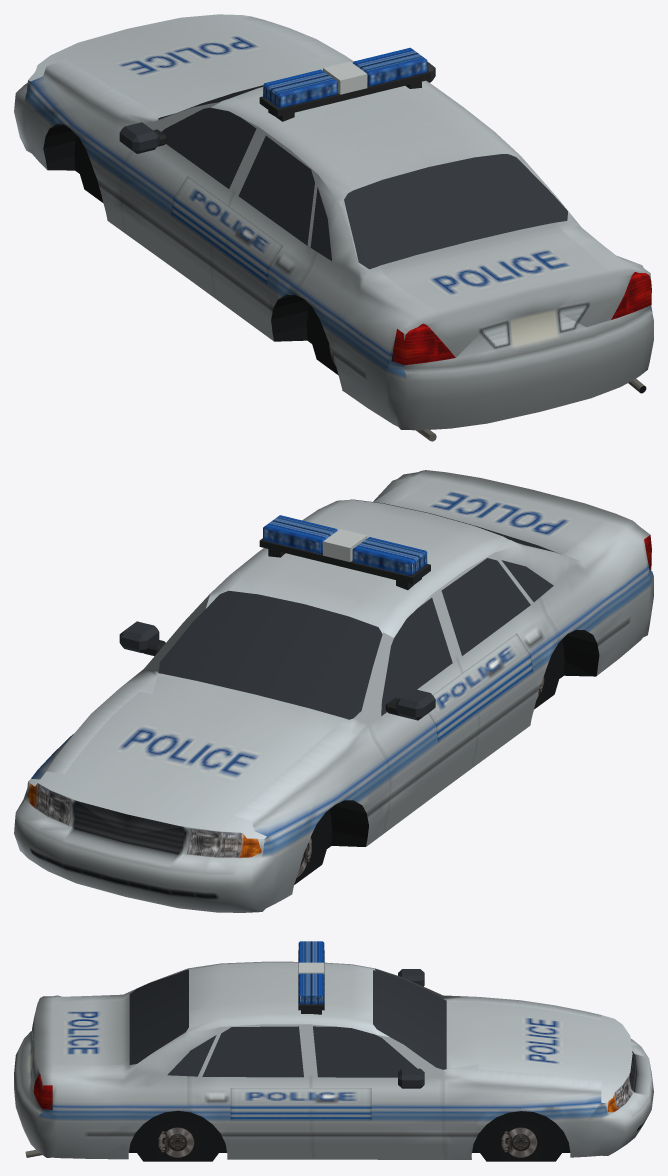
Rendered from fullsize_police.obj.
3 renders of one model, top to bottom at view 1: azimuth 30°, elevation 25°; view 2: azimuth 150°, elevation 25°; view 3: azimuth 270°, elevation 25°, orthographic. The views are drawn at different scales.
Parts seen in each view (by area): view 1: fullsize_police; view 2: fullsize_police; view 3: fullsize_police.
Boxes of the visible parts, x1,y1,x2,y2 form: fullsize_police: [14, 14, 653, 441]; fullsize_police: [14, 470, 653, 912]; fullsize_police: [14, 941, 653, 1161].
Size of the model in its own units: 2.18 by 1.48 by 5.38.
Materials: 1 (1 with a texture image).
